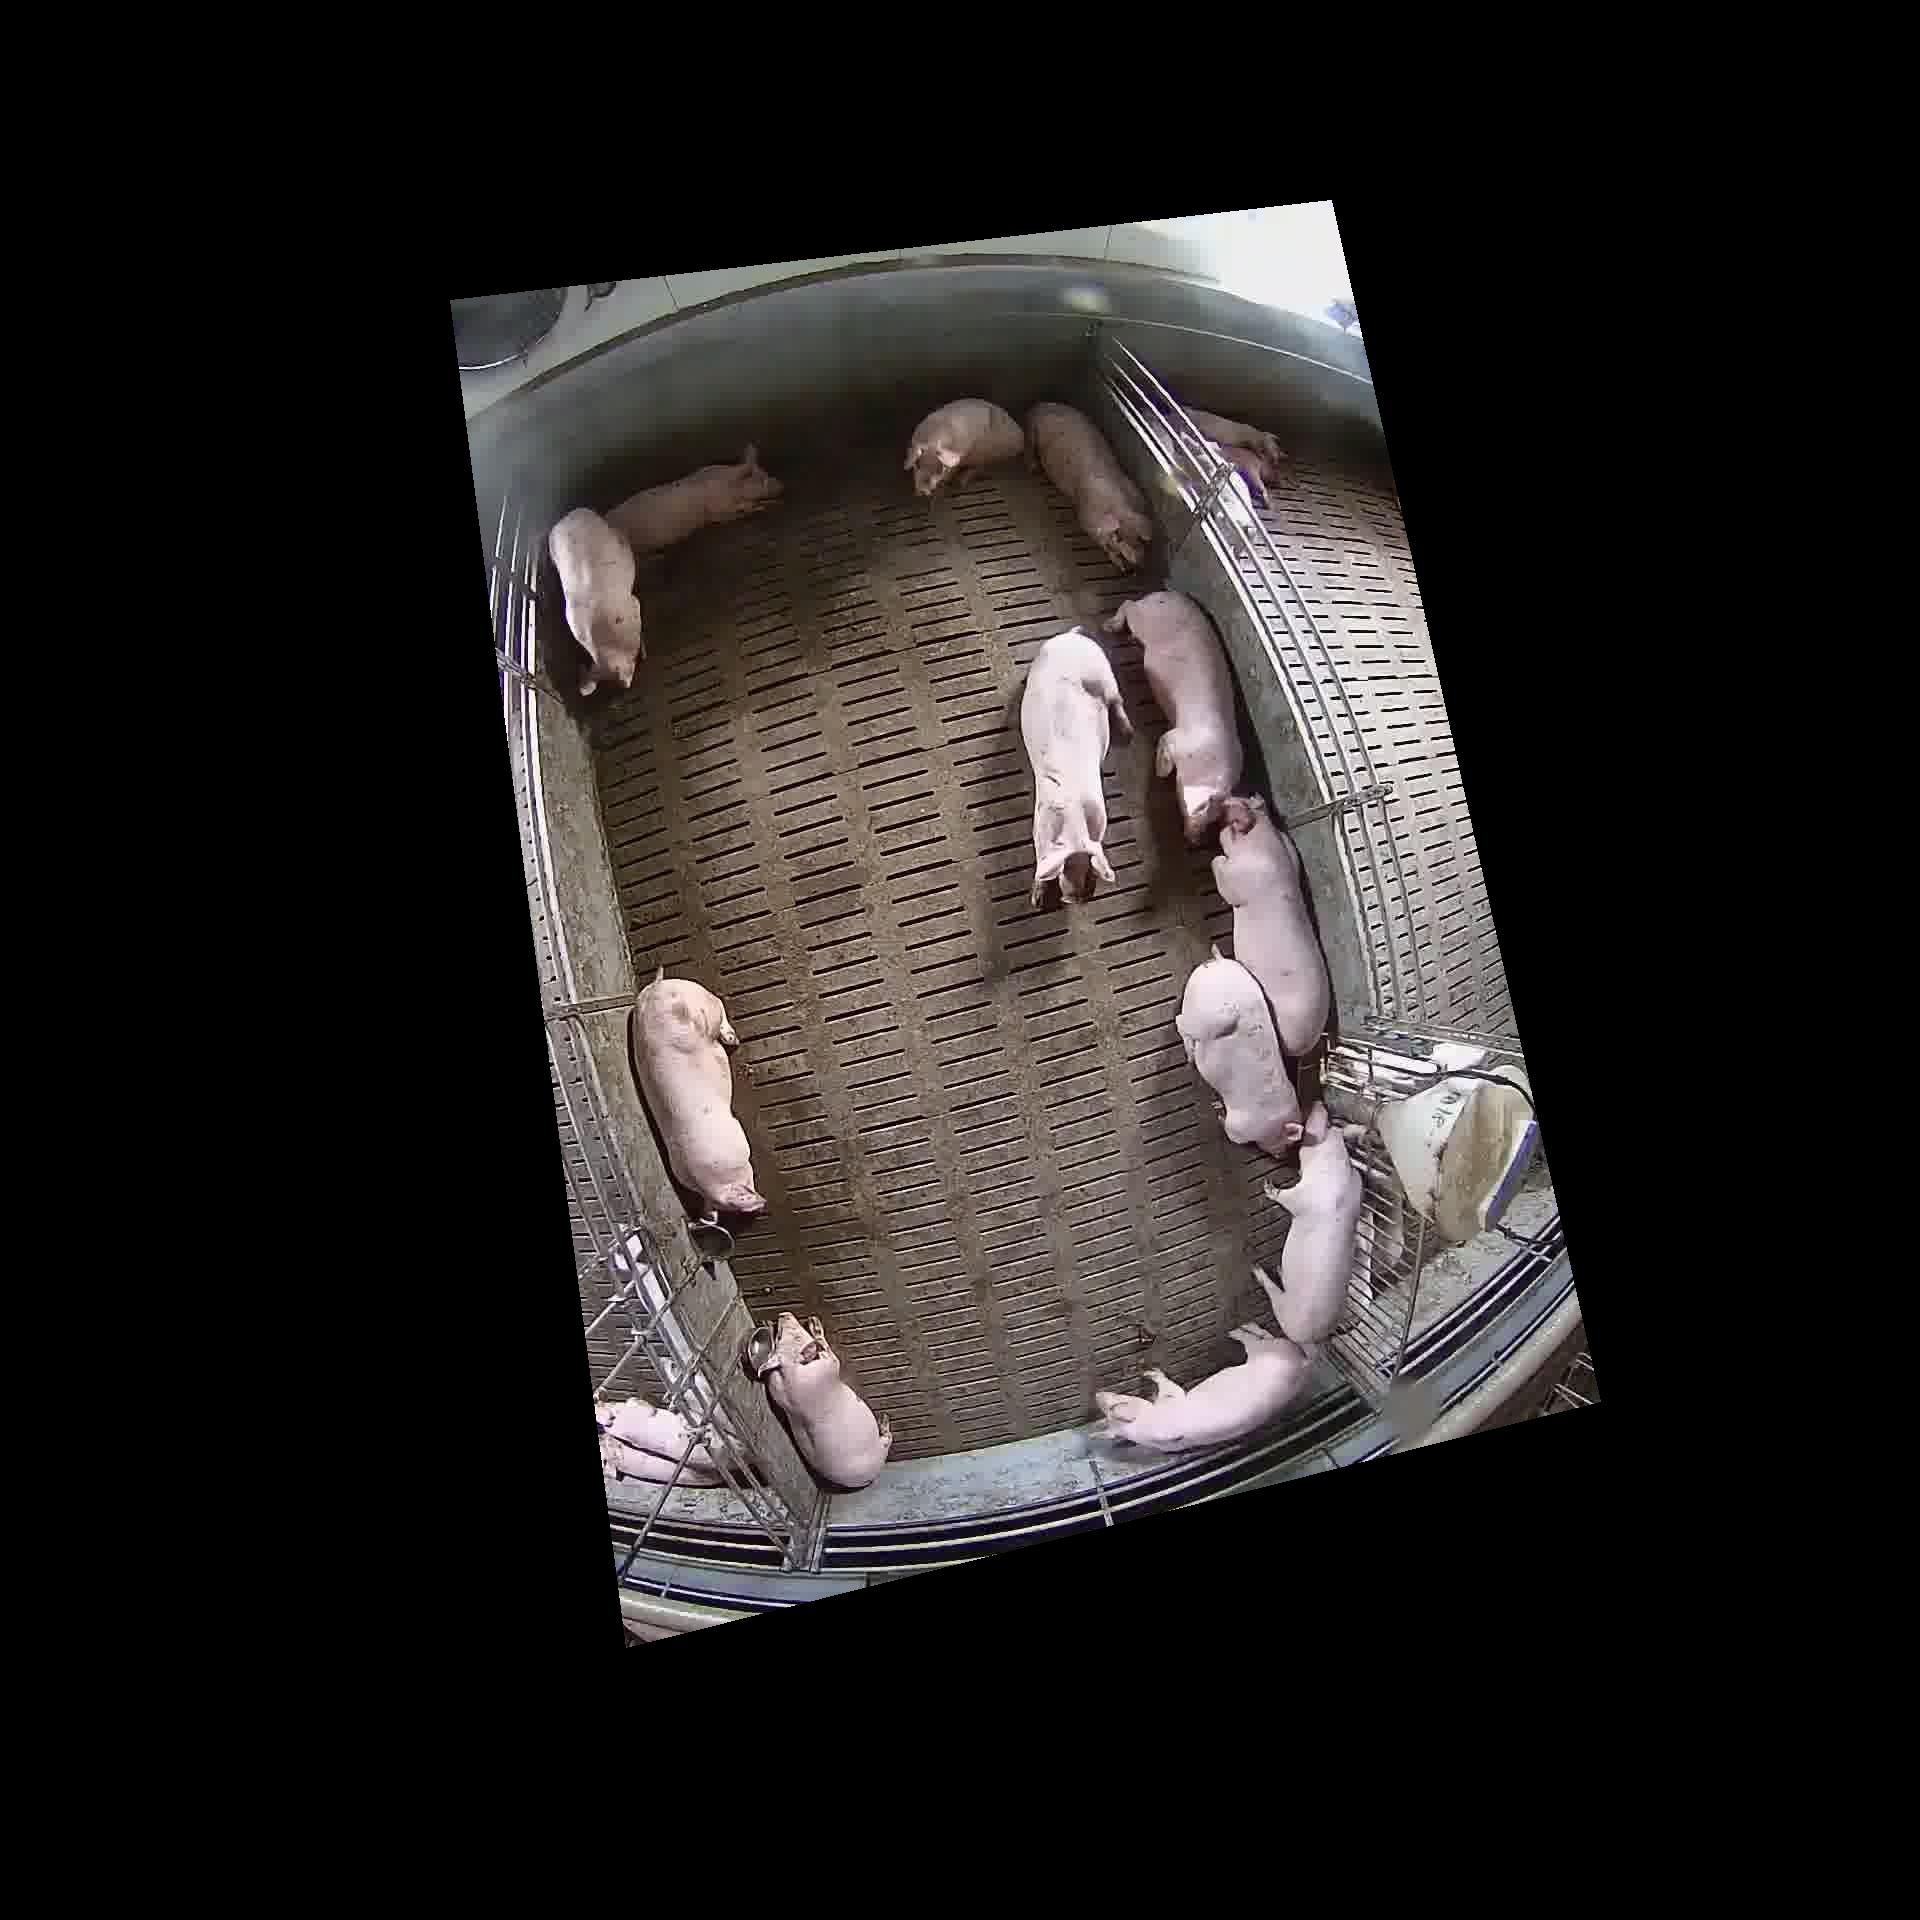pig: (1106, 591, 1241, 841), (630, 974, 760, 1216), (1213, 793, 1328, 1052), (1021, 627, 1128, 900), (1095, 1323, 1314, 1449), (1176, 946, 1304, 1151), (1255, 1103, 1362, 1342), (758, 1311, 889, 1486), (1027, 402, 1151, 565), (548, 506, 639, 696), (616, 444, 779, 543), (903, 399, 1024, 492)
